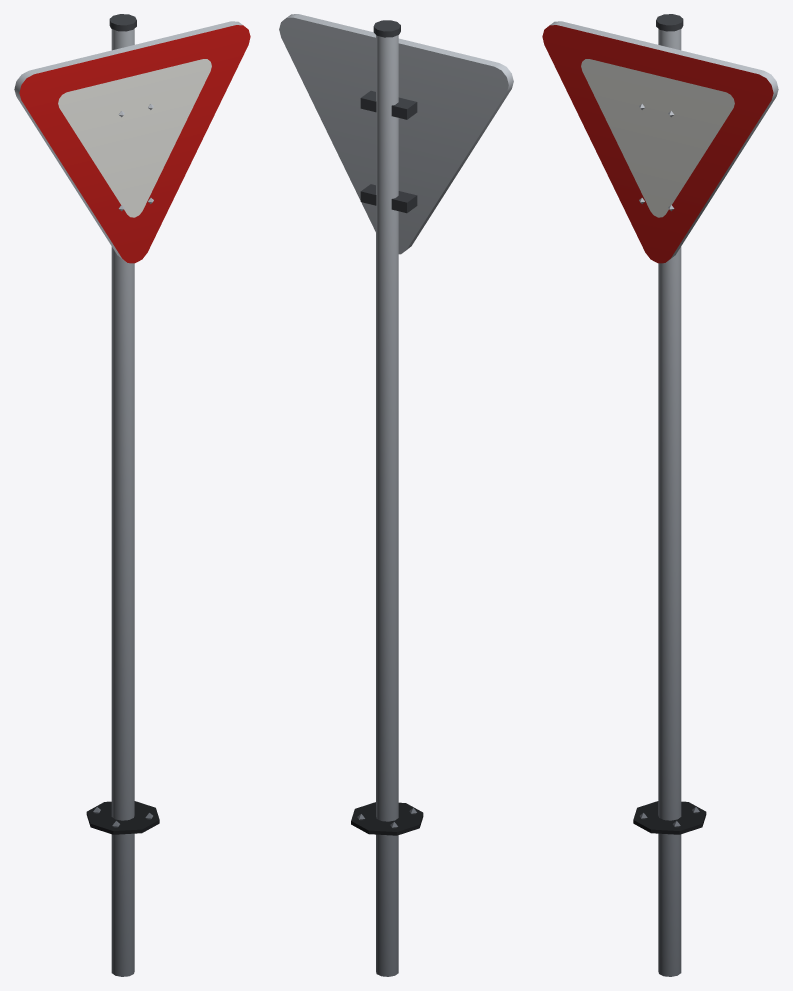
Rendered from Sign_Yield.fbx.
The picture shows the model from 3 angles, left to right: view 1: azimuth 30°, elevation 25°; view 2: azimuth 150°, elevation 25°; view 3: azimuth 330°, elevation 25°; orthographic projection.
Visible parts, largest first — view 1: Sign_Yield_LOD0; view 2: Sign_Yield_LOD0; view 3: Sign_Yield_LOD0.
Boxes of the visible parts, <box> form: Sign_Yield_LOD0: <box>14,14,250,976</box>; Sign_Yield_LOD0: <box>279,14,513,976</box>; Sign_Yield_LOD0: <box>542,14,778,976</box>.
Size of what is drawn, in the model's own units: 0.7928 by 3.12 by 0.224.
1 material, 1 textured.
